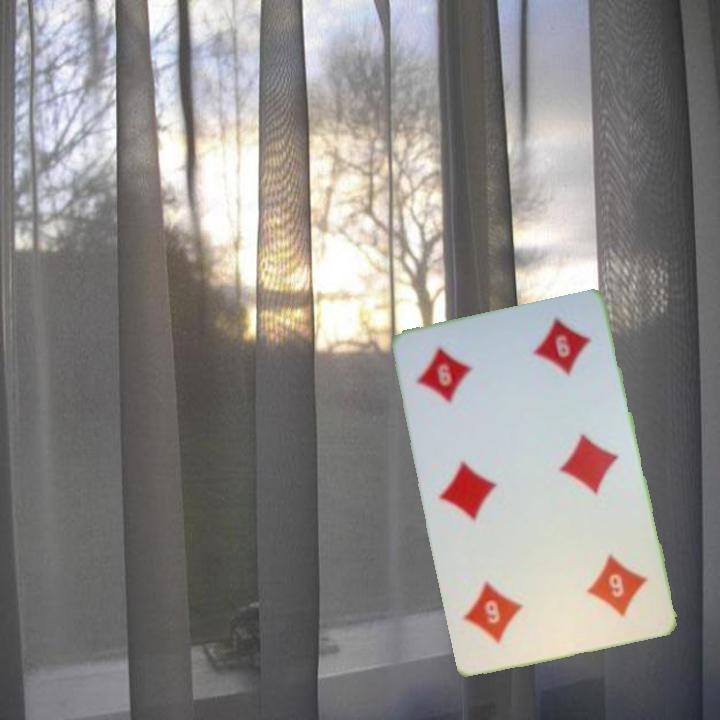d_6.png: (403, 325, 518, 429), (545, 536, 660, 640)
